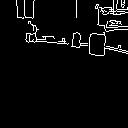cube: (86, 31, 108, 62)
